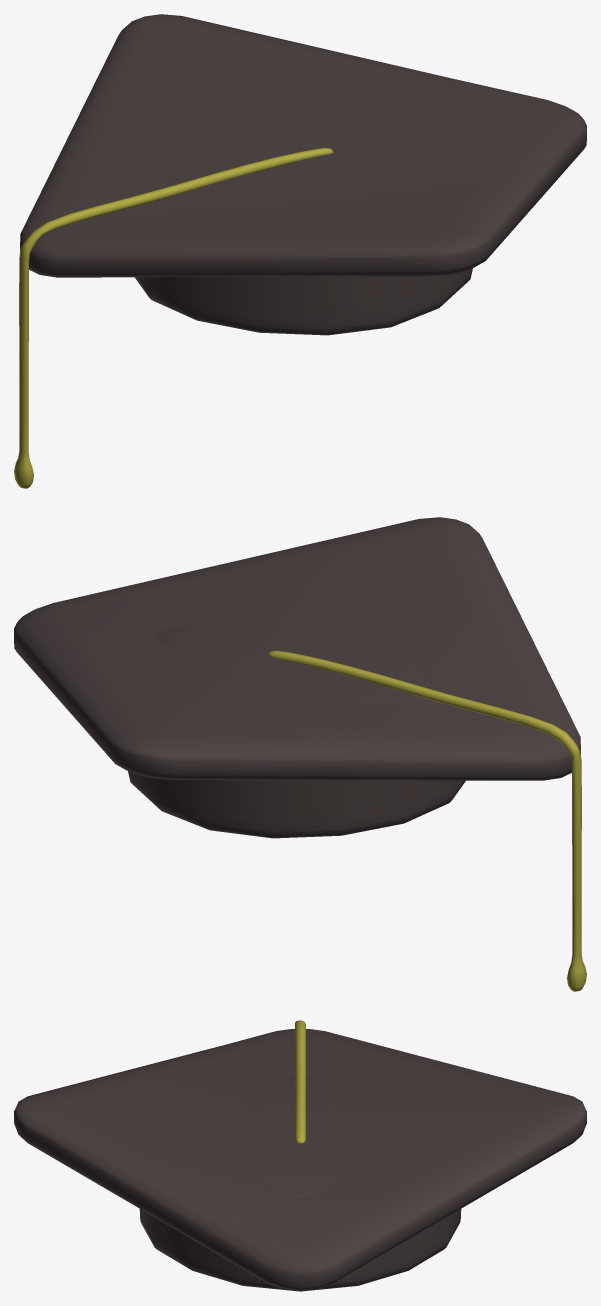
The model's file is GraduationHat.glb.
The picture shows the model from 3 angles, top to bottom: view 1: azimuth 30°, elevation 25°; view 2: azimuth 150°, elevation 25°; view 3: azimuth 270°, elevation 25°; orthographic projection. The views are drawn at different scales.
Parts seen in each view (by area): view 1: top, bottom, line; view 2: top, bottom, line; view 3: top, bottom, line.
Boxes of the visible parts, x1,y1,x2,y2 form: top: [20, 14, 586, 277]; bottom: [135, 120, 472, 335]; line: [14, 147, 333, 488]; top: [14, 517, 580, 780]; bottom: [128, 623, 465, 838]; line: [267, 650, 586, 991]; top: [14, 1029, 586, 1290]; bottom: [139, 1076, 461, 1291]; line: [295, 1020, 305, 1143].
Size of the model in its own units: 1.37 by 0.677 by 1.35.
